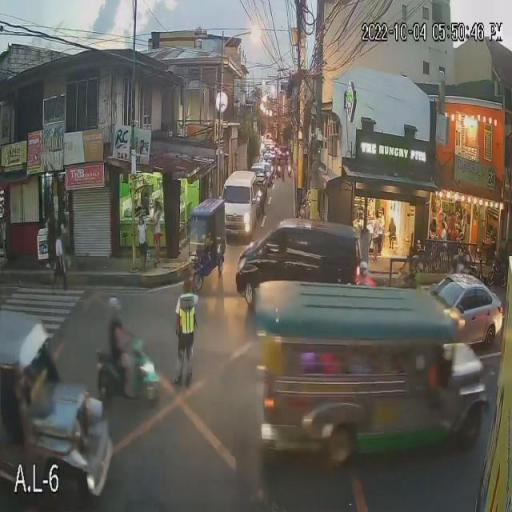helmet: (408, 252, 420, 270), (108, 296, 122, 308), (358, 260, 368, 270)
motorcycle: (96, 336, 161, 406)
rider: (106, 297, 140, 394)
